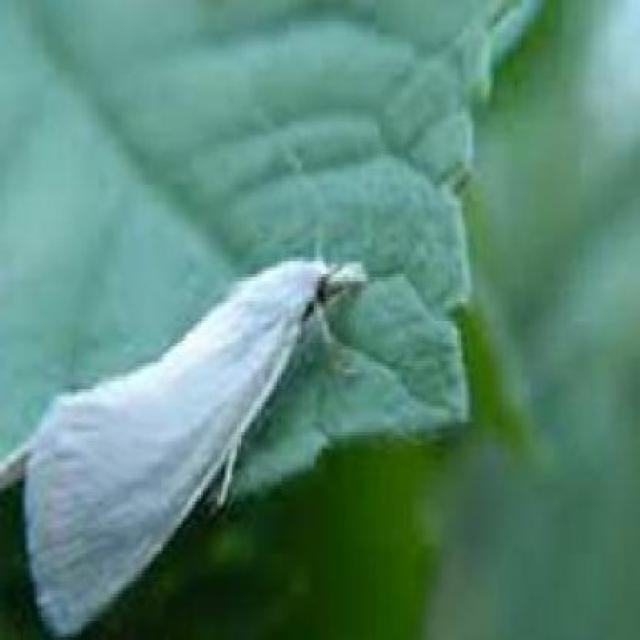stem-borer: (0, 241, 375, 640)
